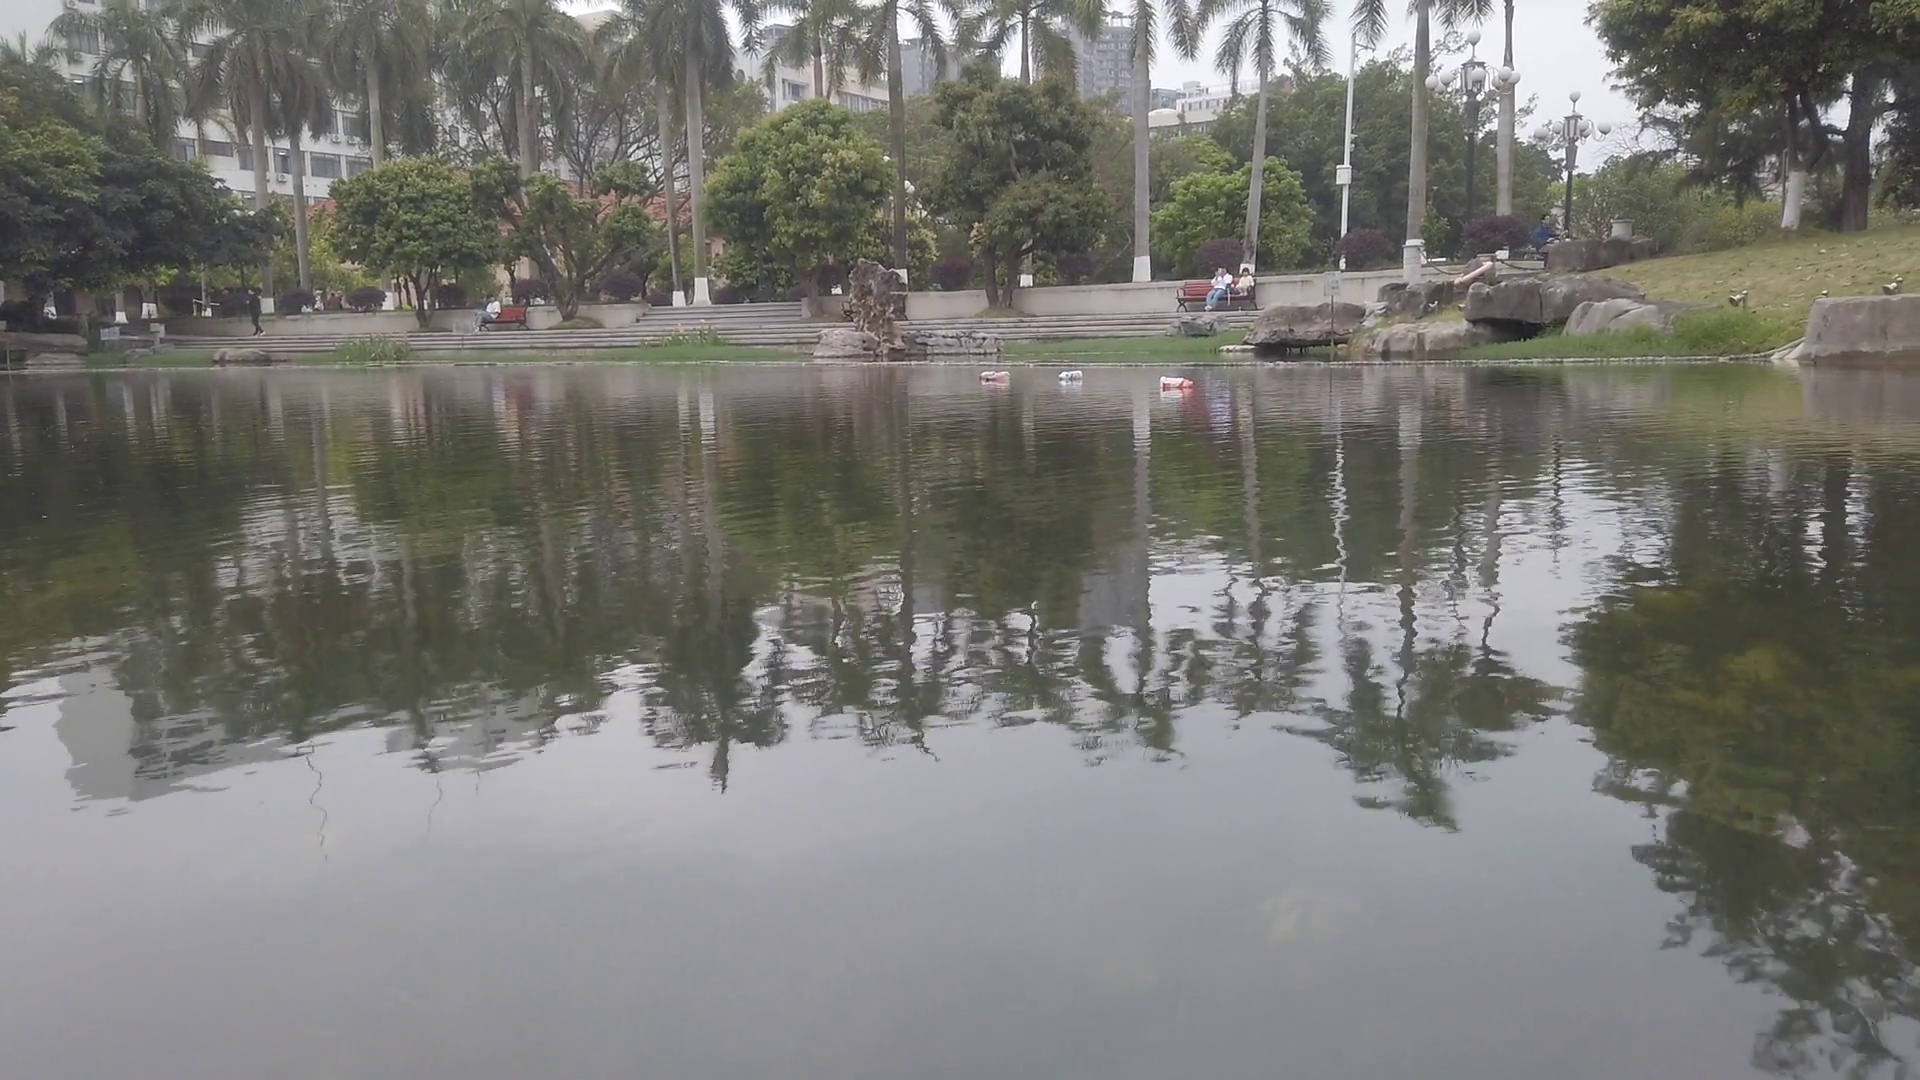bottle: (1159, 375, 1195, 392), (1058, 371, 1084, 382), (986, 371, 1009, 384), (978, 371, 997, 382)
